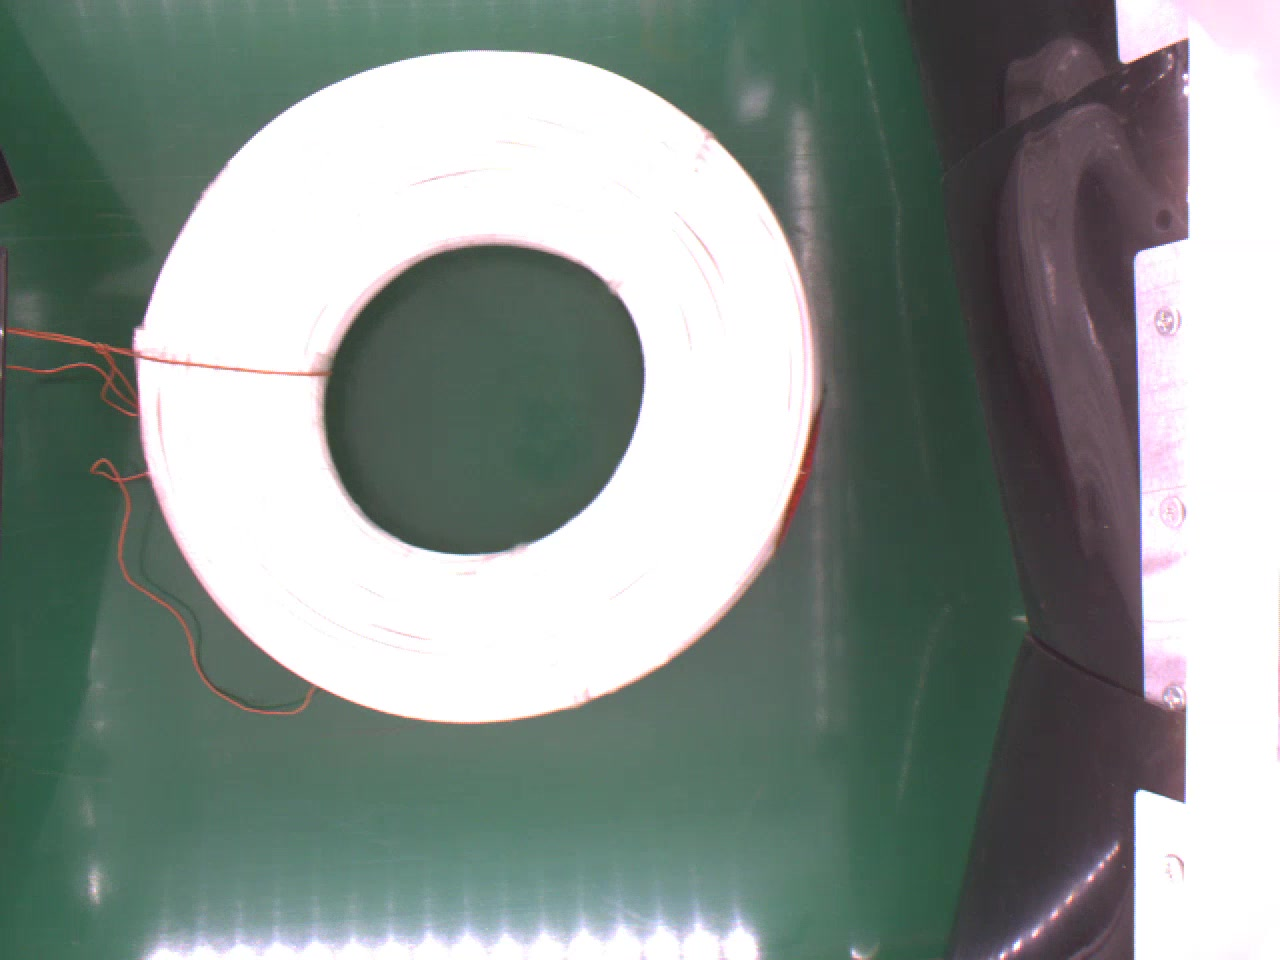white: (128, 48, 818, 727)
